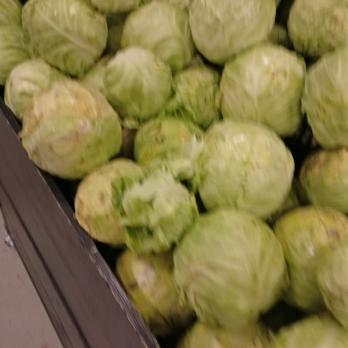Cabbage: (1, 0, 348, 122), (169, 121, 348, 348), (32, 30, 245, 176), (71, 176, 197, 244)
